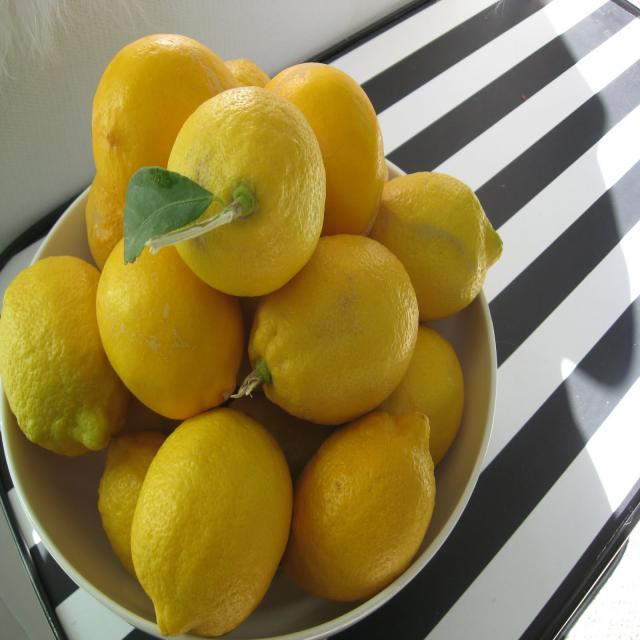lemon: (128, 403, 290, 640), (166, 88, 324, 297), (251, 235, 406, 425), (96, 232, 242, 420), (286, 412, 425, 602), (0, 255, 127, 455), (372, 172, 503, 322)
